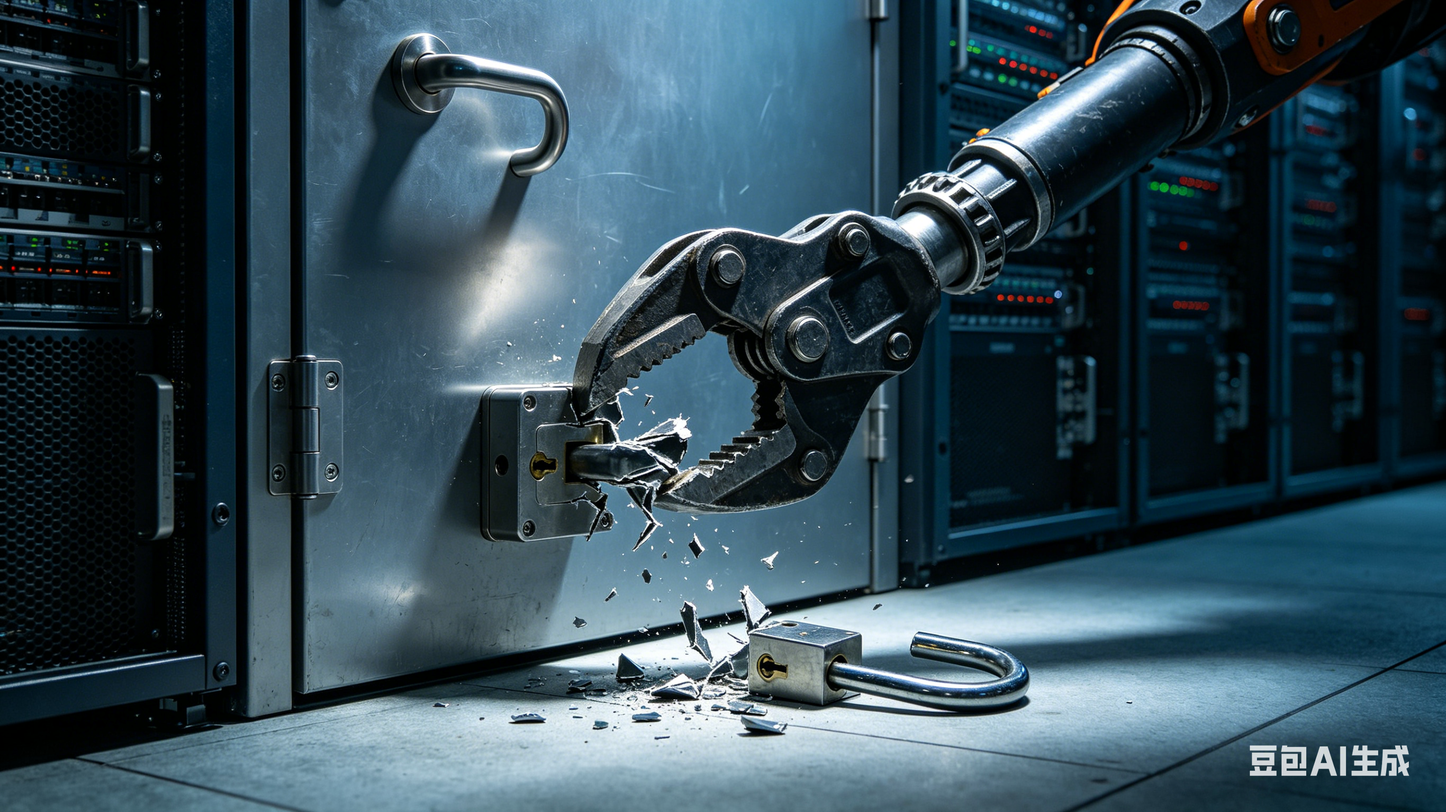BadLock: (534, 377, 689, 520)
